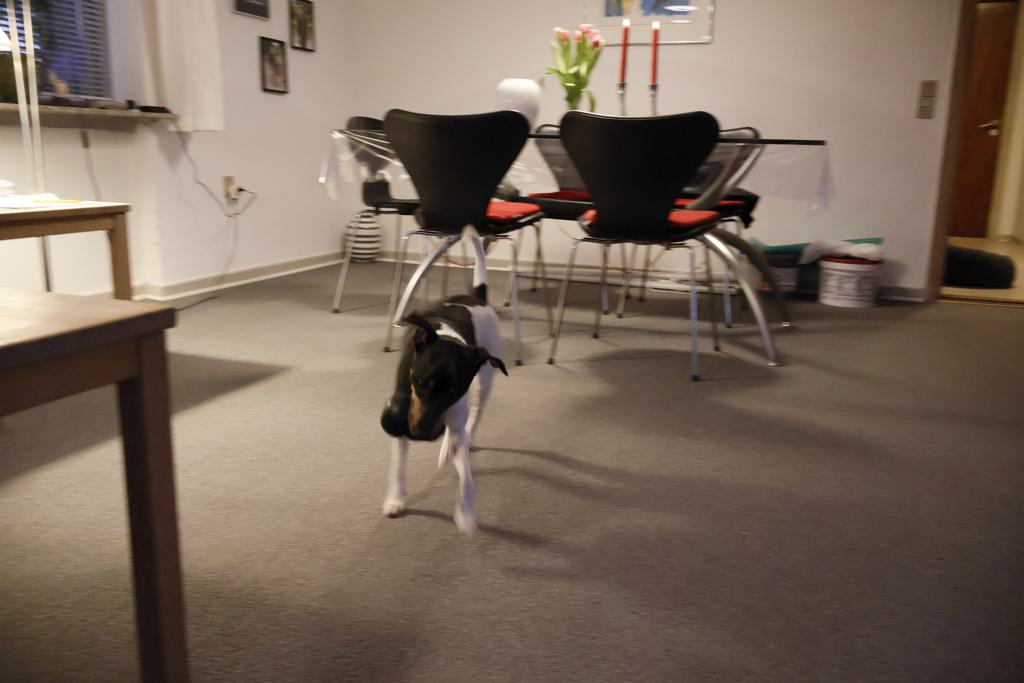Dog: (371, 216, 532, 547)
